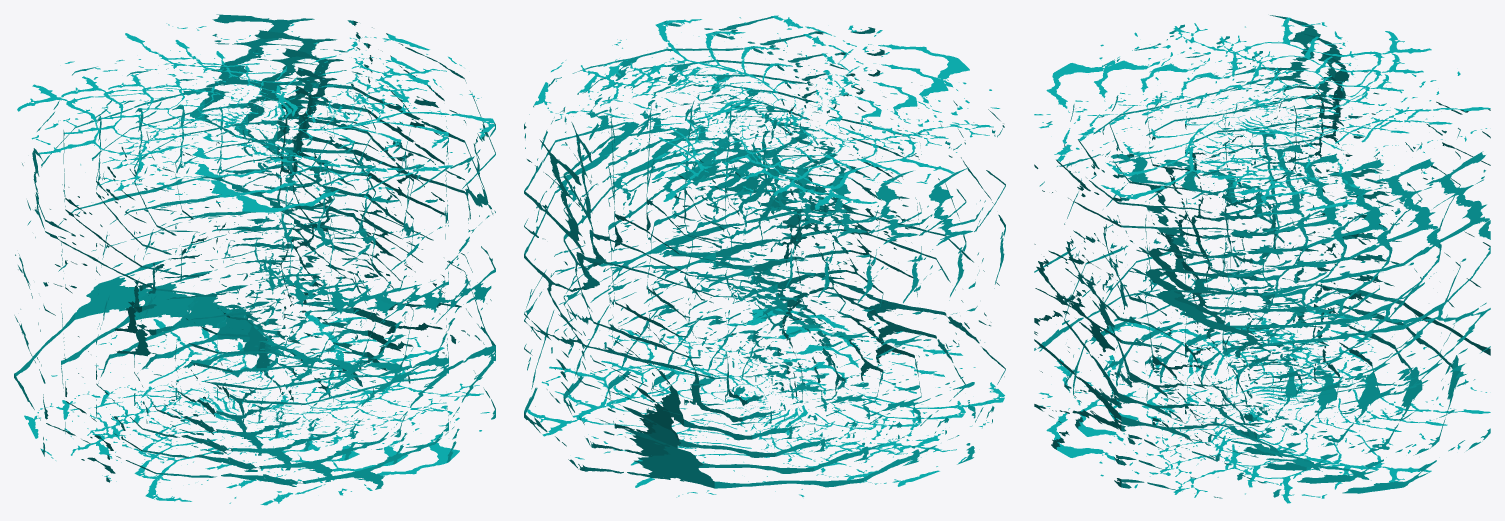
The model's file is soulevator.fbx.
3 renders of one model, left to right at view 1: azimuth 30°, elevation 25°; view 2: azimuth 150°, elevation 25°; view 3: azimuth 270°, elevation 25°, orthographic.
Visible parts, largest first — view 1: Cylinder, Cylinder_1, Cylinder_3, Cylinder_2, Cylinder_4, Cylinder_5; view 2: Cylinder, Cylinder_1, Cylinder_3, Cylinder_2, Cylinder_4, Cylinder_5; view 3: Cylinder, Cylinder_1, Cylinder_3, Cylinder_2, Cylinder_4, Cylinder_5.
Boxes of the visible parts, box(x1,y1,x2,y2) form: Cylinder: box(14, 14, 495, 505); Cylinder_1: box(61, 30, 448, 488); Cylinder_3: box(96, 48, 413, 470); Cylinder_2: box(134, 65, 375, 455); Cylinder_4: box(175, 82, 334, 438); Cylinder_5: box(216, 98, 293, 423); Cylinder: box(524, 15, 1005, 497); Cylinder_1: box(563, 31, 966, 481); Cylinder_3: box(608, 46, 921, 467); Cylinder_2: box(646, 63, 883, 454); Cylinder_4: box(684, 81, 845, 439); Cylinder_5: box(725, 98, 804, 423); Cylinder: box(1034, 15, 1490, 503); Cylinder_1: box(1064, 33, 1460, 487); Cylinder_3: box(1102, 51, 1422, 470); Cylinder_2: box(1145, 66, 1379, 455); Cylinder_4: box(1185, 83, 1339, 439); Cylinder_5: box(1222, 99, 1302, 421).
Bounding box in the file's own units: 12 × 8 × 11.41.
